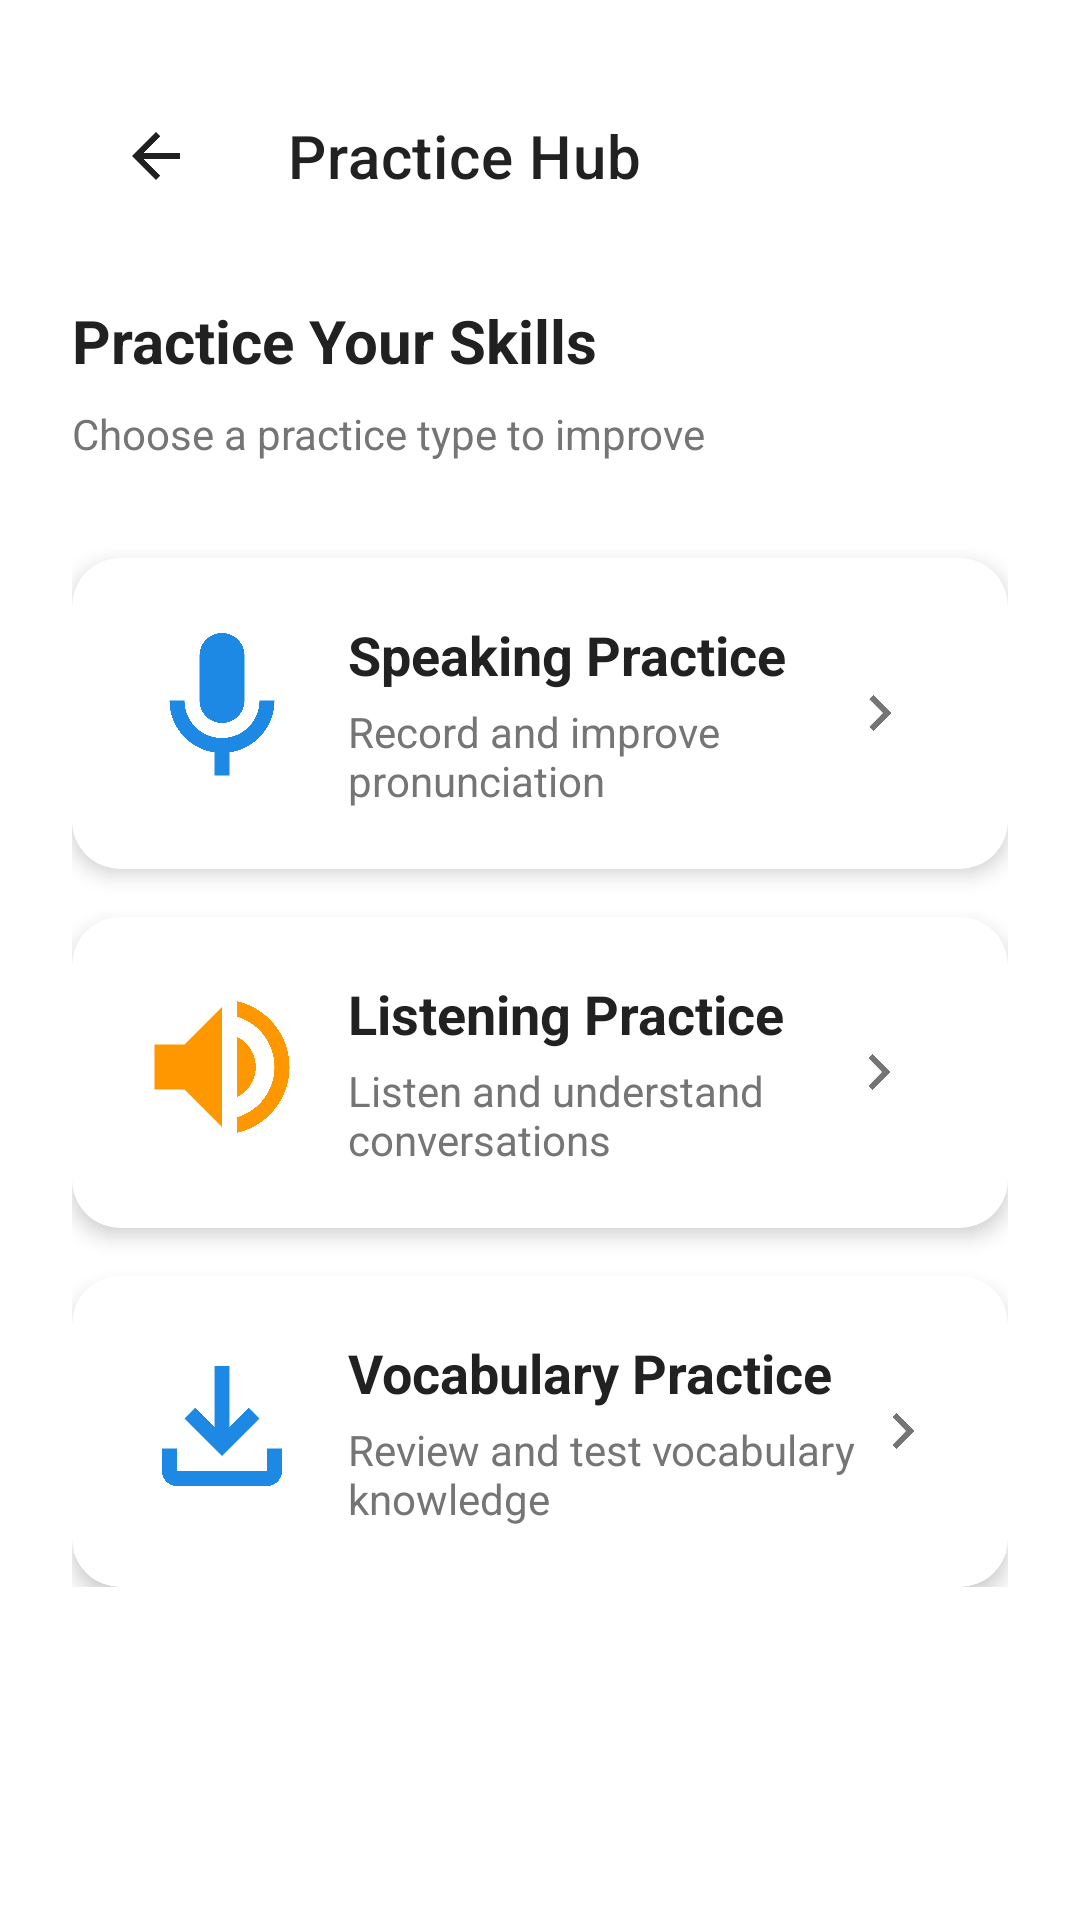

Where icons sit on this 1080w x 1920h app screen, as bbox=(x1, y1, x2, y2):
Microphone icon: bbox=(169, 633, 275, 776)
Next arrow icon: bbox=(869, 695, 891, 731), bbox=(869, 1054, 890, 1090), bbox=(893, 1413, 914, 1449)
Volume icon: bbox=(154, 1001, 290, 1133)
